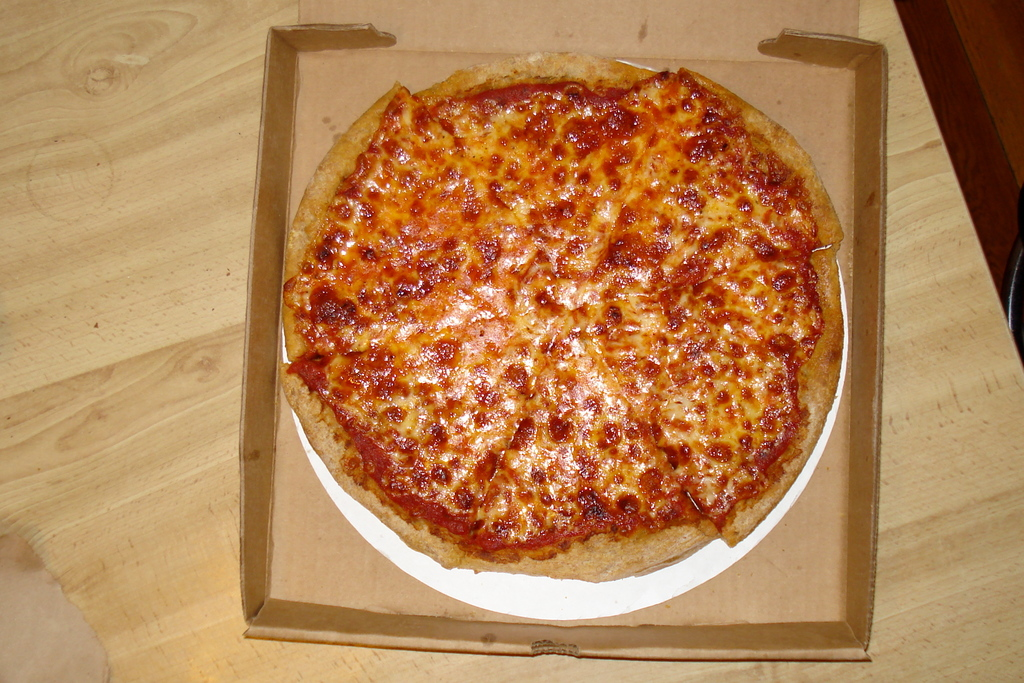Pizza: (288, 53, 868, 595)
